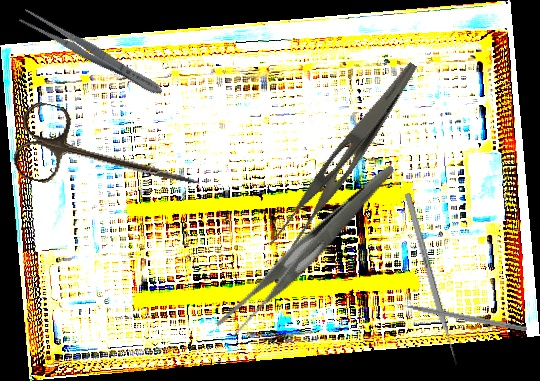Dressing Forceps: (187, 164, 430, 343), (265, 47, 420, 263), (16, 5, 167, 101)
Hook Surgical: (385, 298, 528, 333)
Iris Scissors: (9, 98, 210, 218)
Pusher: (403, 192, 460, 367)
